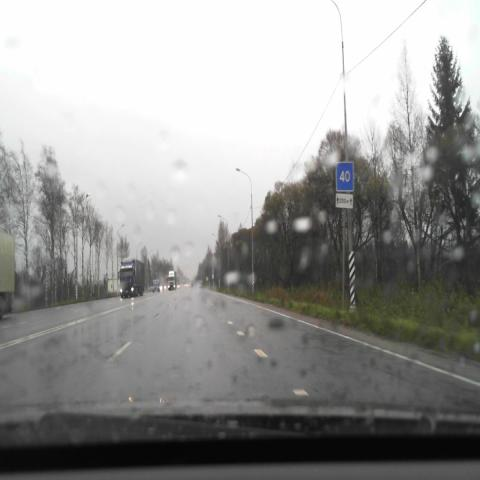6_2: (335, 162, 354, 192)
